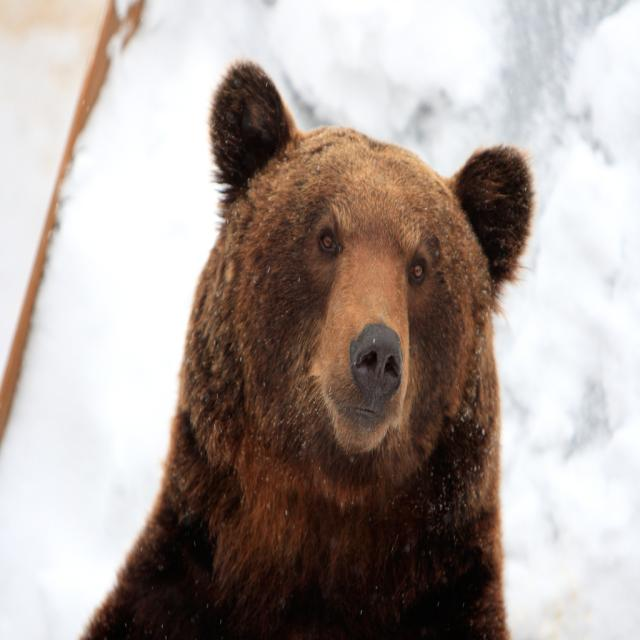Cheetahs: (75, 56, 535, 639)
